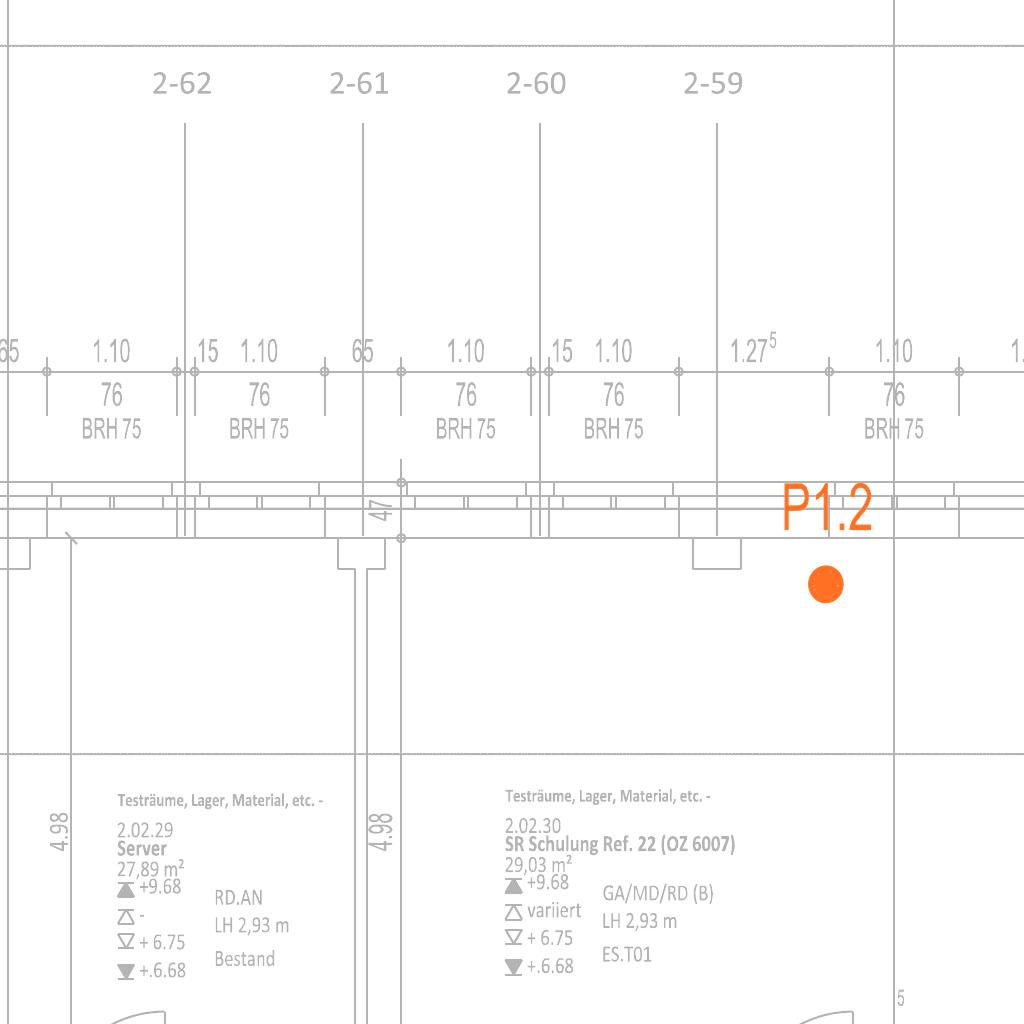Downlight_LED_Einbauleuchten_Flur: (781, 479, 874, 607)
